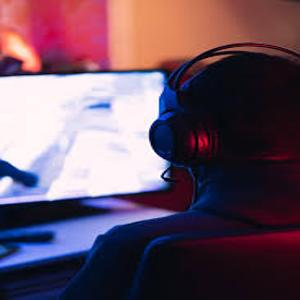Headphones: (151, 40, 300, 165)
